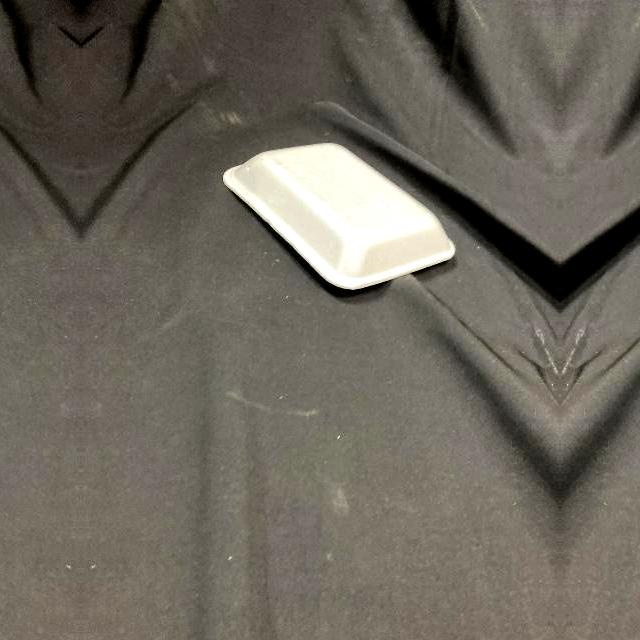Styrofoam: (221, 141, 455, 291), (222, 143, 455, 289)
